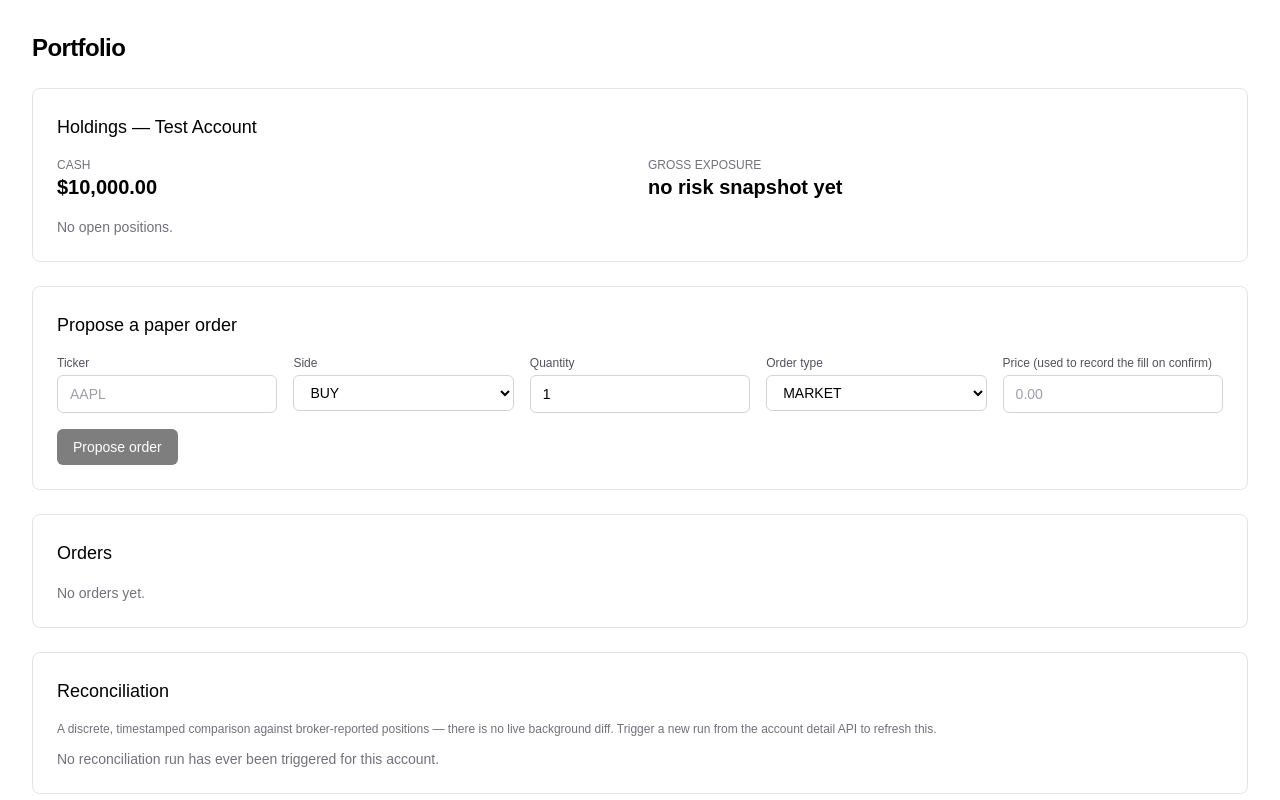
it: PortfolioPage — order create→confirm flow › creates a DRAFT order and lists it with Confirm/Cancel actions
Expected: the text "No orders yet." is shown, [57,585,145,601]
In the field with placeholder "AAPL": (167, 394) [57,375,277,413], type "aapl"
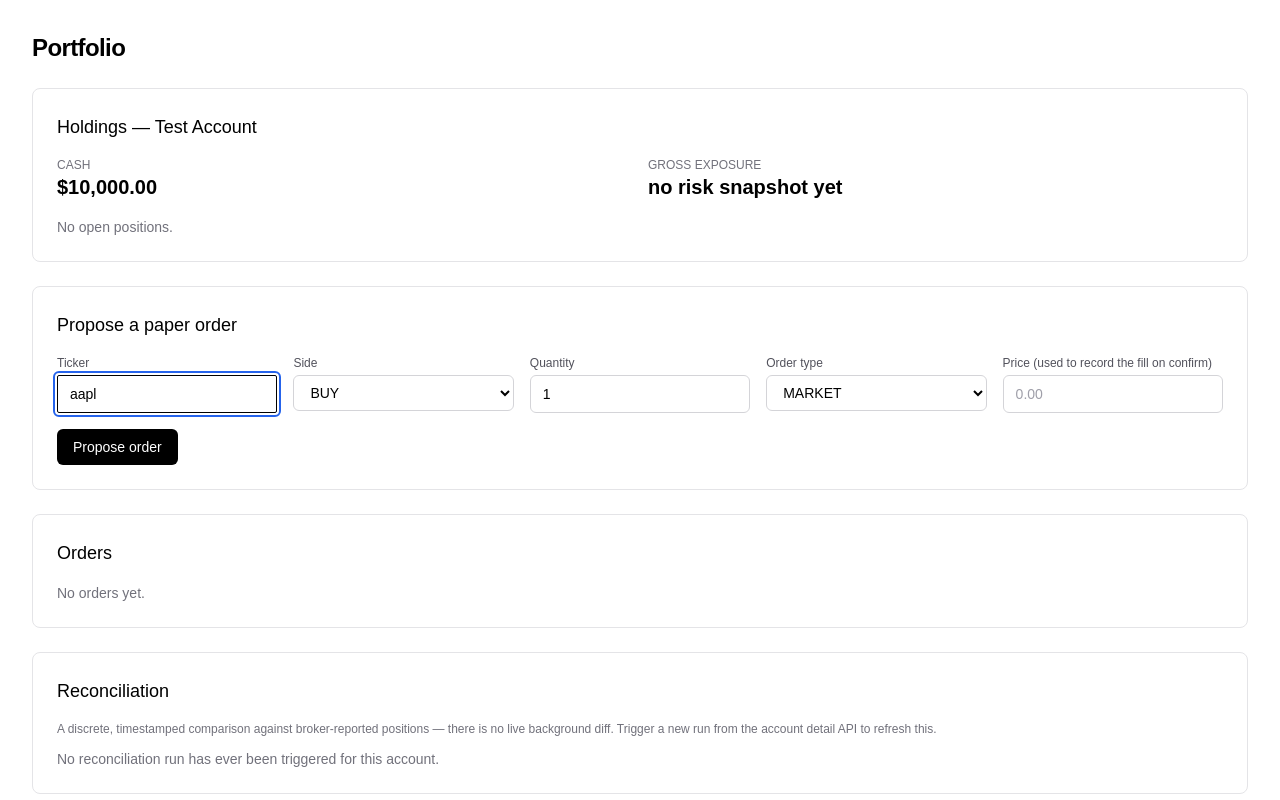
In the field with placeholder "0.00": (1113, 394) [1003,375,1223,413], type "150.00"
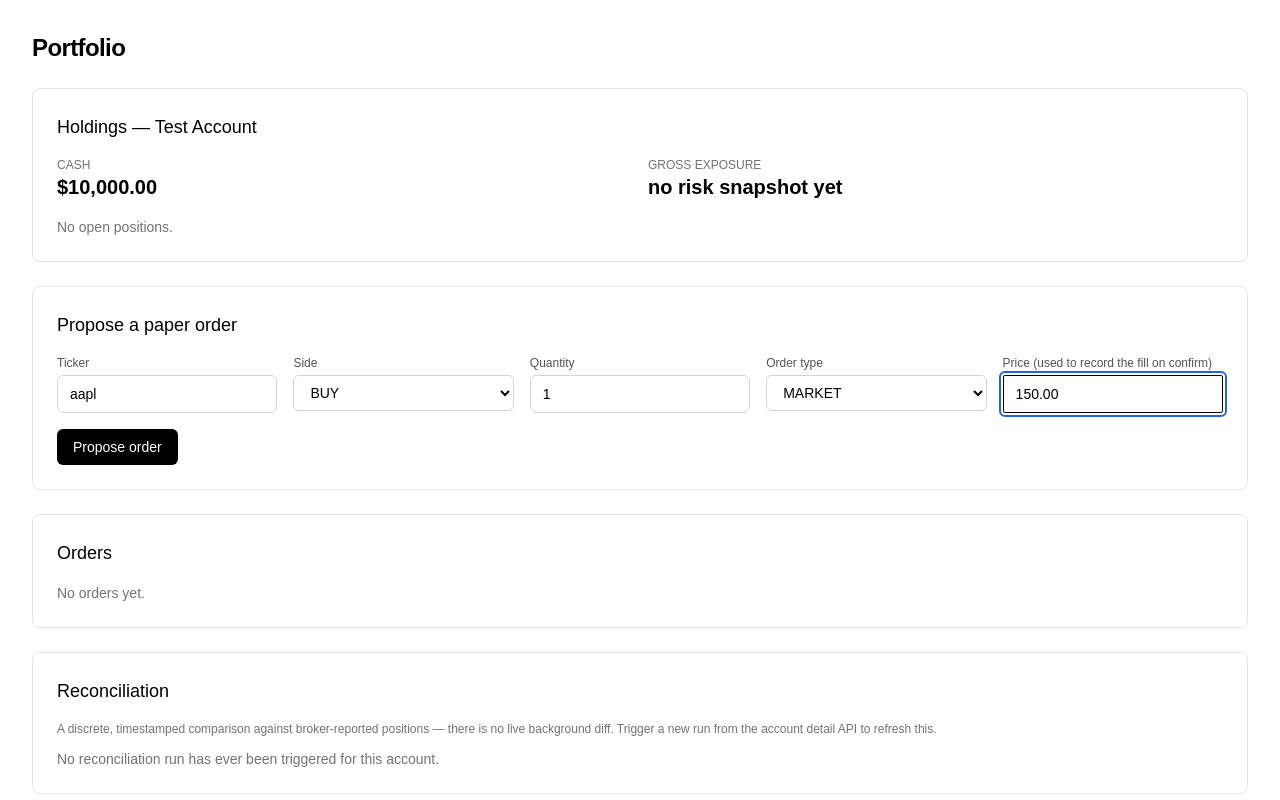
Expected: the button "Propose order" is enabled
Click the button "Propose order": (117, 447) [57,429,178,465]
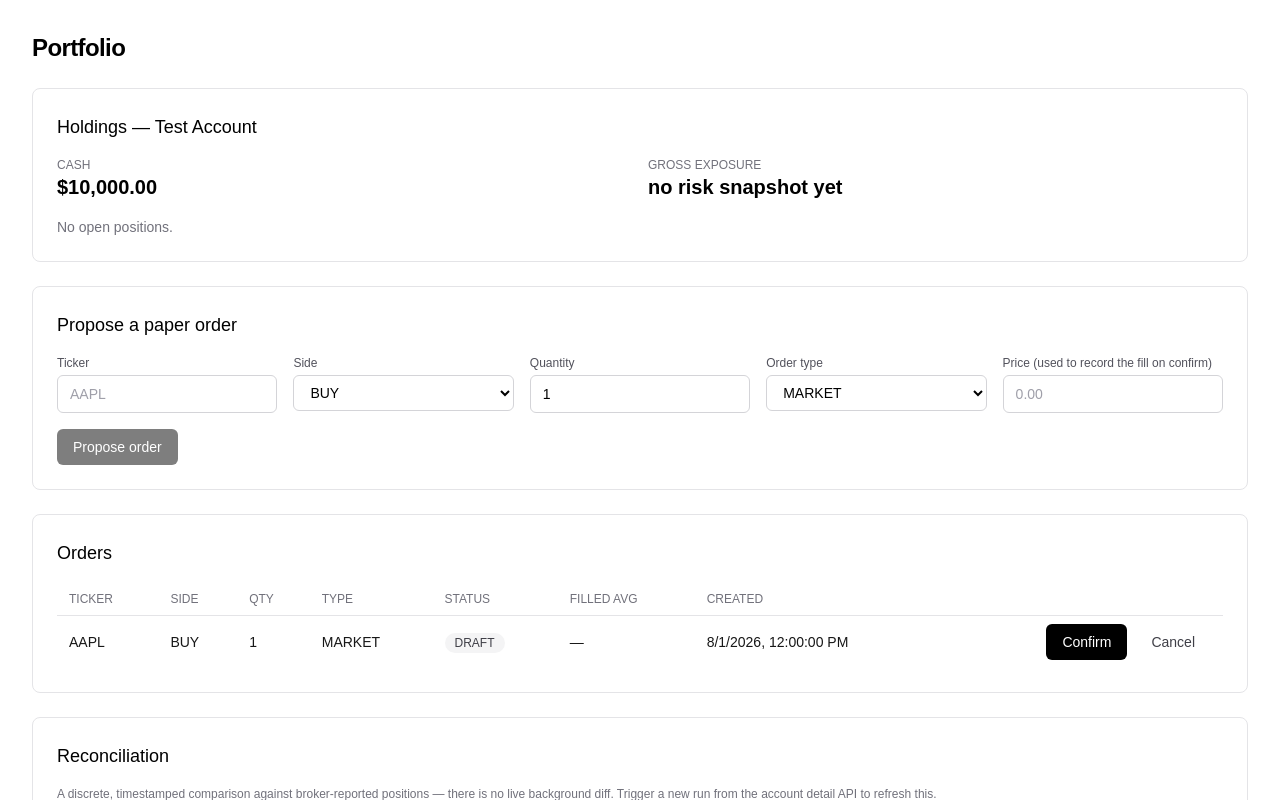
Expected: the text "AAPL" is shown, [57,616,158,668]
Expected: the text "DRAFT" is shown, [444,632,504,652]
Expected: the button "Confirm" is shown, [1046,624,1127,660]
